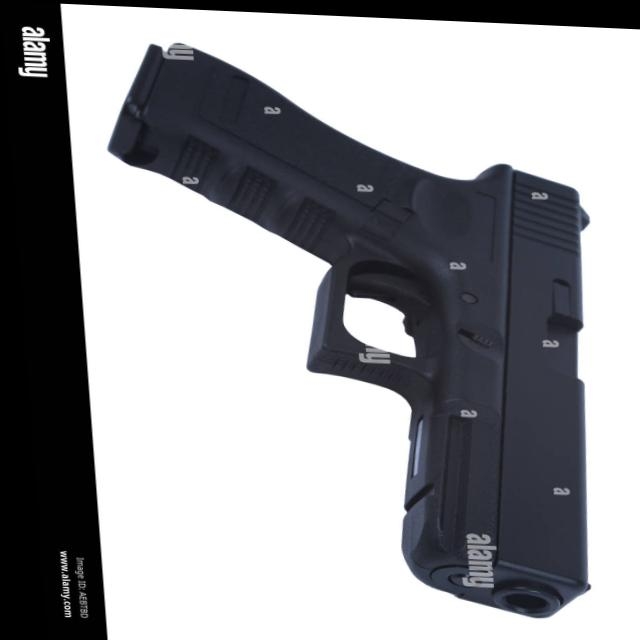handgun: (111, 45, 620, 622)
